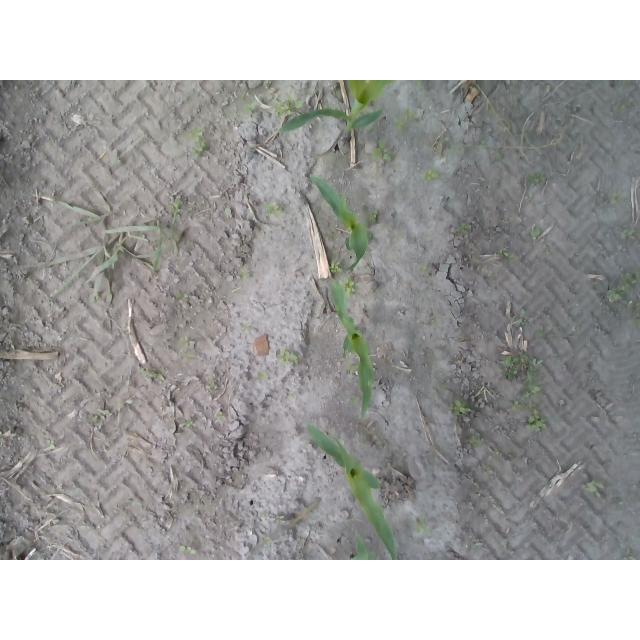Maize: (19, 193, 162, 306), (303, 422, 398, 560), (276, 80, 390, 144), (325, 279, 375, 417), (307, 172, 372, 273), (353, 532, 372, 560)
Weeds: (496, 351, 541, 381), (606, 270, 639, 302), (274, 96, 306, 120), (189, 126, 211, 158), (370, 140, 397, 163), (395, 106, 417, 130), (276, 348, 301, 365), (519, 381, 542, 399), (450, 399, 471, 418), (172, 199, 193, 218), (527, 412, 546, 432), (340, 276, 357, 297), (418, 168, 439, 182), (527, 171, 548, 185), (607, 192, 622, 209), (590, 480, 605, 495), (465, 433, 480, 448), (416, 519, 431, 534), (326, 262, 343, 274), (264, 203, 284, 213), (622, 230, 640, 241), (622, 546, 636, 560), (175, 292, 189, 306), (147, 369, 163, 381), (494, 246, 510, 258), (206, 383, 223, 394), (180, 545, 197, 556), (177, 335, 191, 348), (274, 514, 287, 526), (260, 536, 273, 548), (243, 102, 257, 113), (530, 227, 543, 237), (370, 209, 378, 224), (461, 223, 472, 233), (183, 421, 195, 430), (512, 402, 520, 411)
